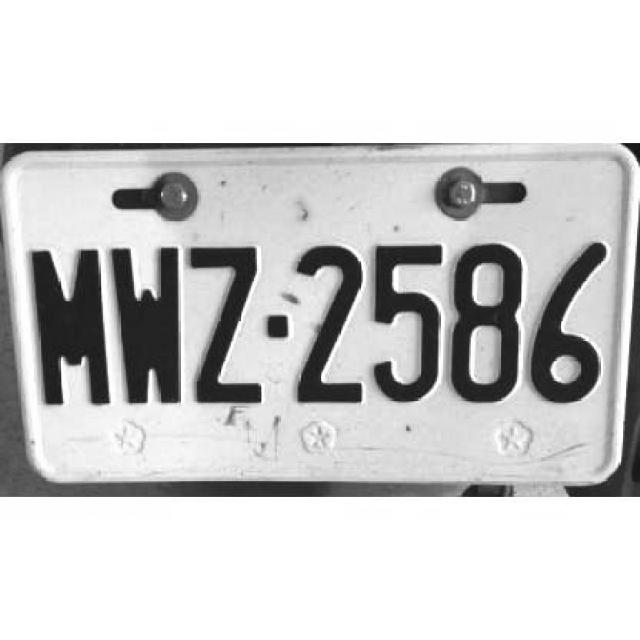-: (263, 309, 291, 343)
2: (292, 238, 365, 411)
5: (368, 240, 444, 406)
6: (528, 237, 608, 406)
8: (445, 237, 526, 408)
M: (29, 246, 111, 408)
W: (109, 244, 186, 410)
Z: (188, 238, 263, 412)
